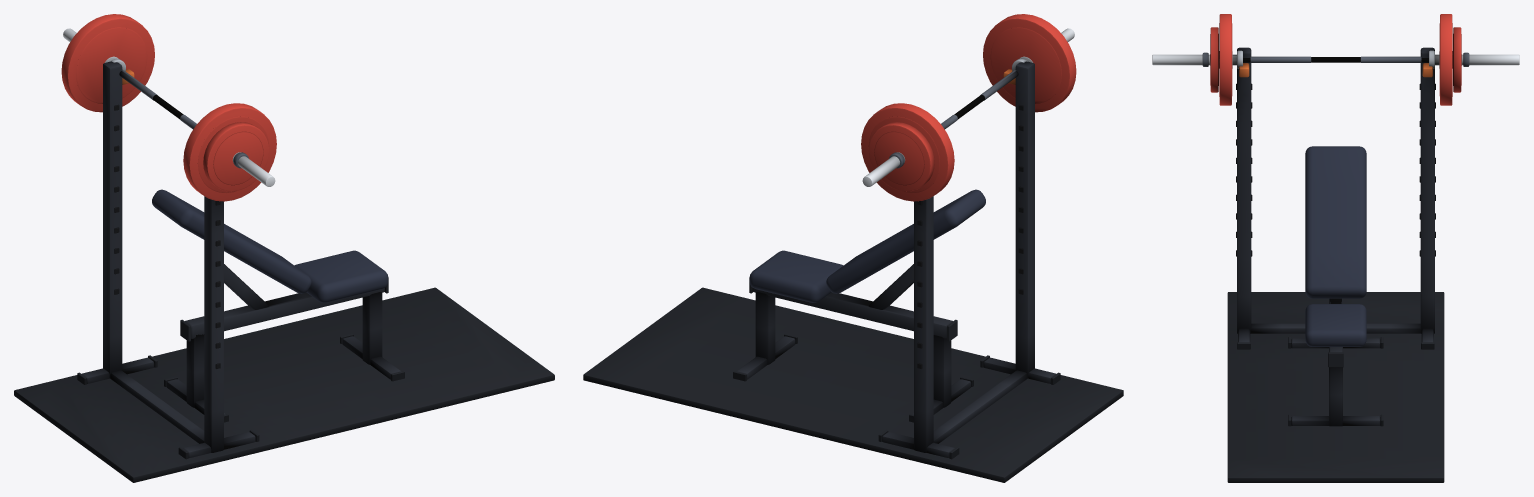
Rendered from m_incline.glb.
3 renders of one model, left to right at view 1: azimuth 30°, elevation 25°; view 2: azimuth 150°, elevation 25°; view 3: azimuth 270°, elevation 25°, orthographic. The views are drawn at different scales.
Parts seen in each view (by area): view 1: static, o21; view 2: static, o21; view 3: static, o21.
Part boxes in pixels (bbox=[...]): static: bbox=[14, 61, 554, 482]; o21: bbox=[61, 14, 276, 201]; static: bbox=[583, 61, 1123, 482]; o21: bbox=[861, 14, 1076, 201]; static: bbox=[1227, 47, 1444, 482]; o21: bbox=[1152, 14, 1519, 105].
Size of the model in its own units: 2.16 by 1.74 by 1.8.
